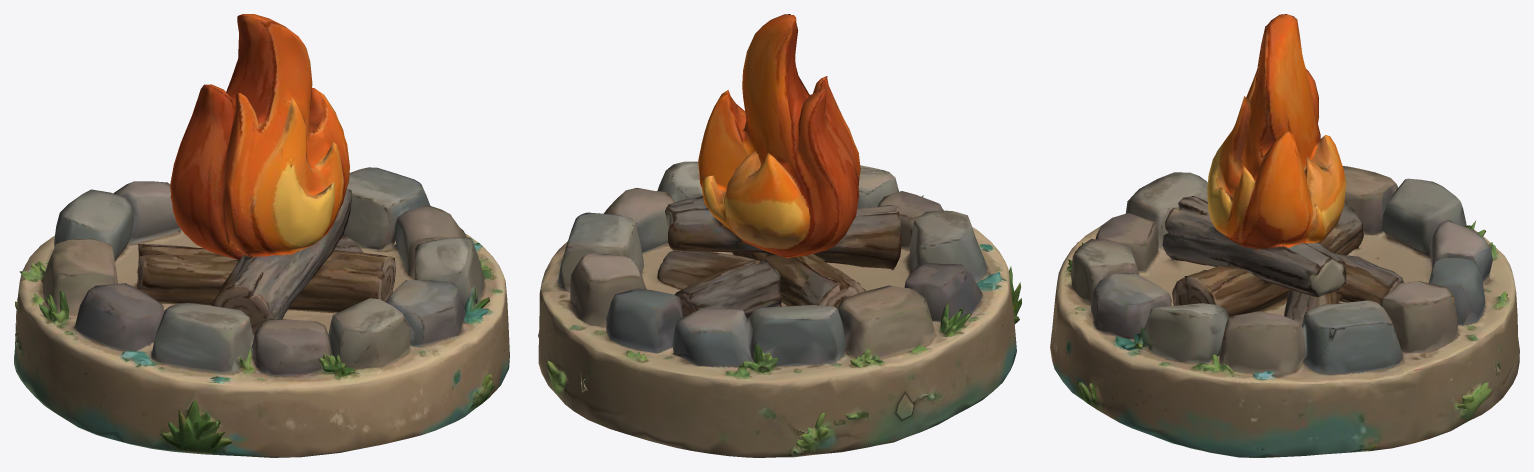
The model's file is sw-fire.glb.
The picture shows the model from 3 angles, left to right: view 1: azimuth 30°, elevation 25°; view 2: azimuth 150°, elevation 25°; view 3: azimuth 270°, elevation 25°; orthographic projection. The views are drawn at different scales.
Parts seen in each view (by area): view 1: world; view 2: world; view 3: world.
Part boxes in pixels (box(x1,y1,x2,y2)): world: box(14, 14, 509, 457); world: box(538, 14, 1021, 457); world: box(1050, 14, 1519, 457).
Size of the model in its own units: 0.8904 by 0.7123 by 0.8866.
1 material, 1 textured.
